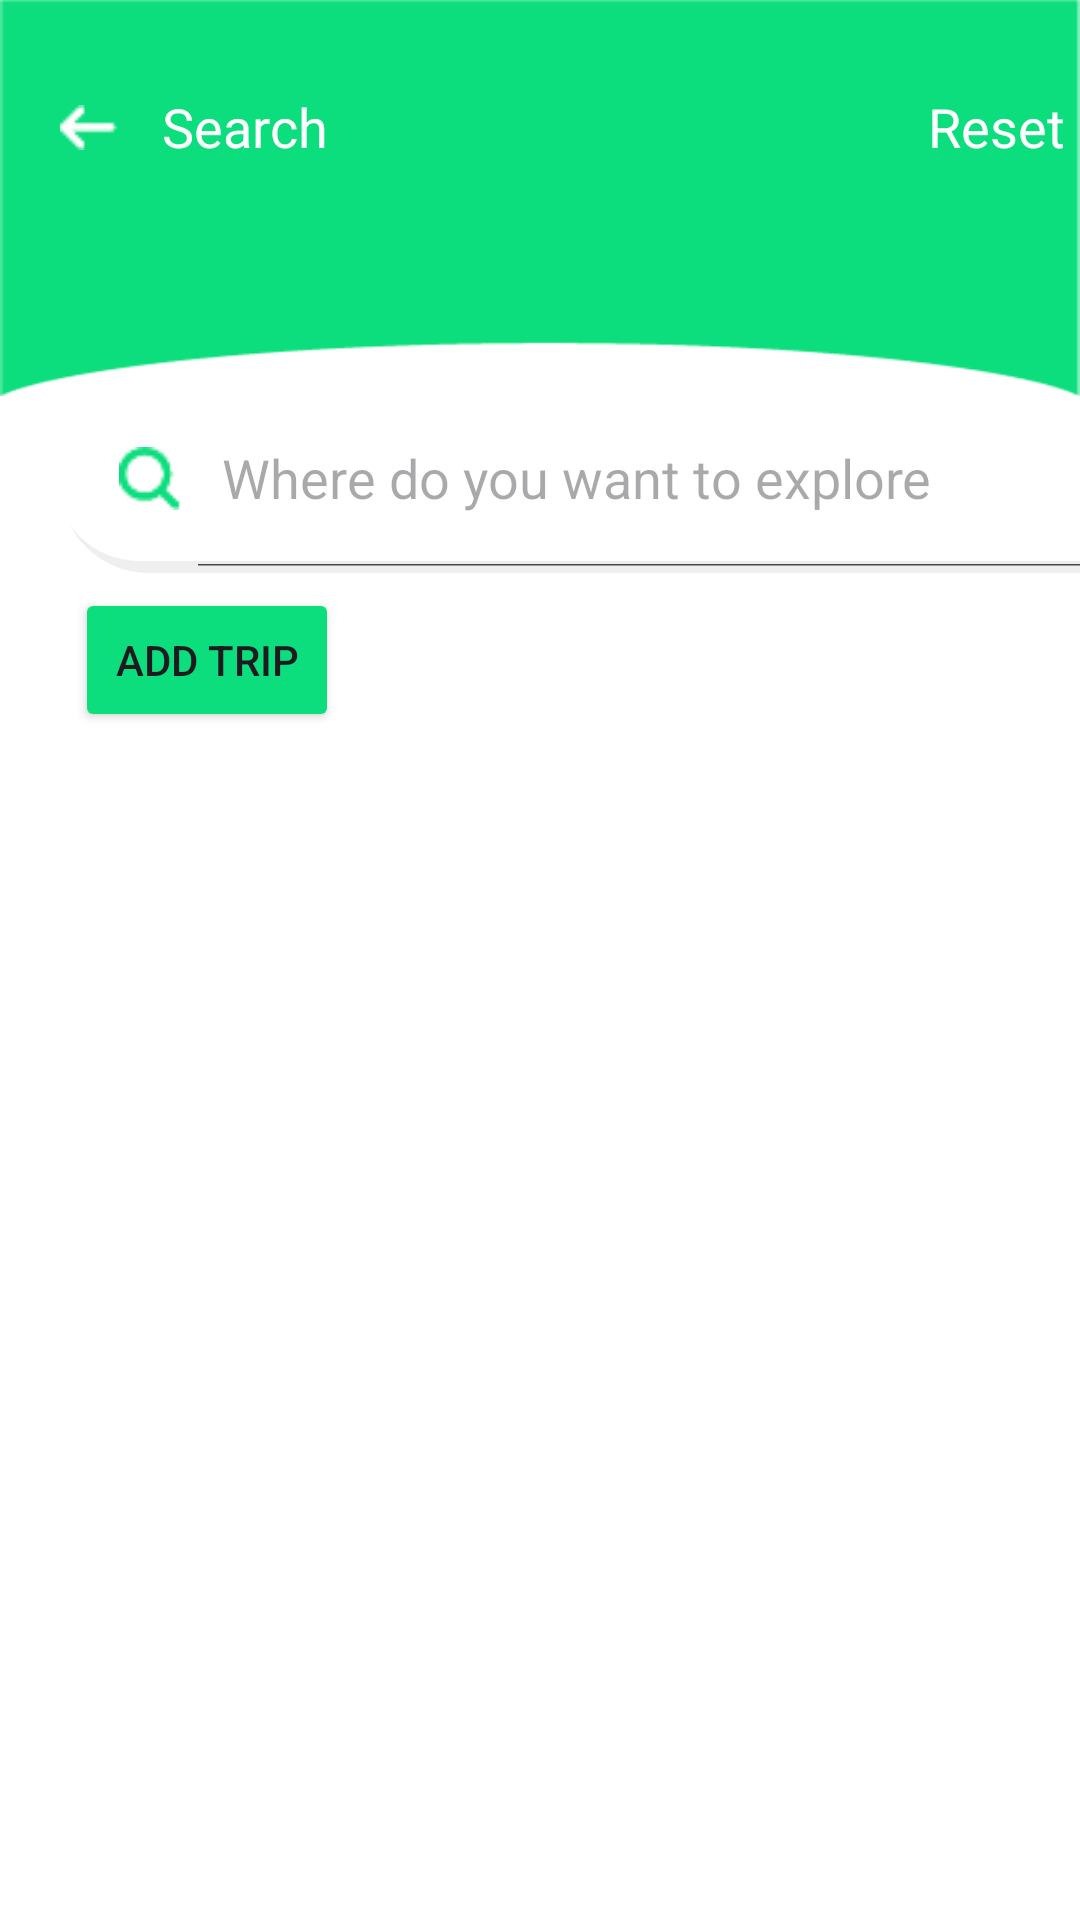

Icon click points for this 1080 × 1920 phone screenshot, format (x=x, y=y):
back arrow: (x=88, y=127)
